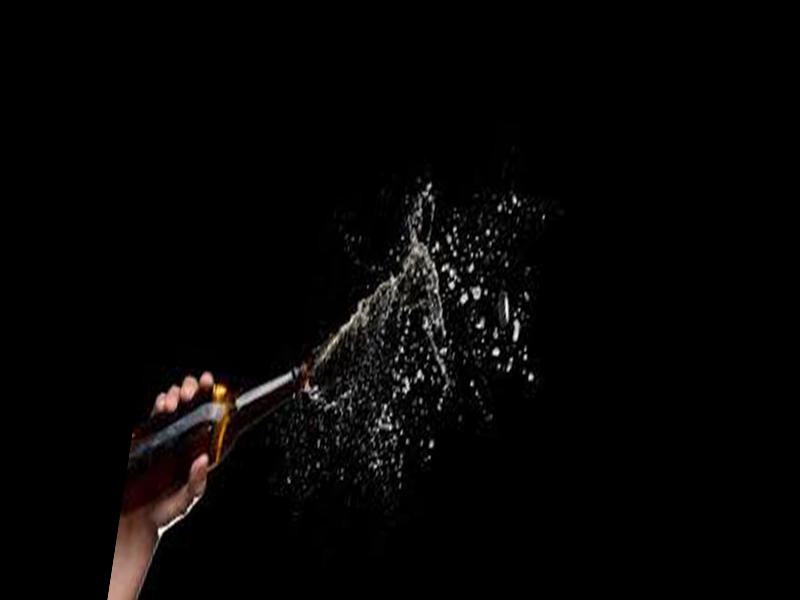Beer: (120, 334, 310, 544)
